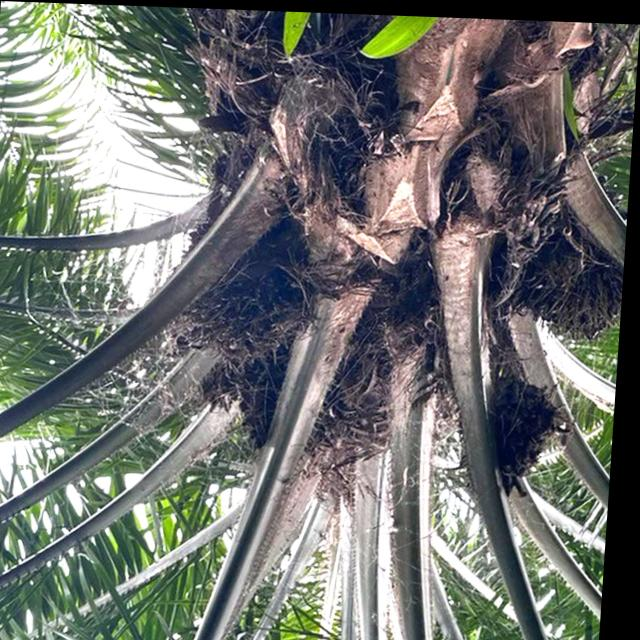unripe: (175, 243, 333, 365)
